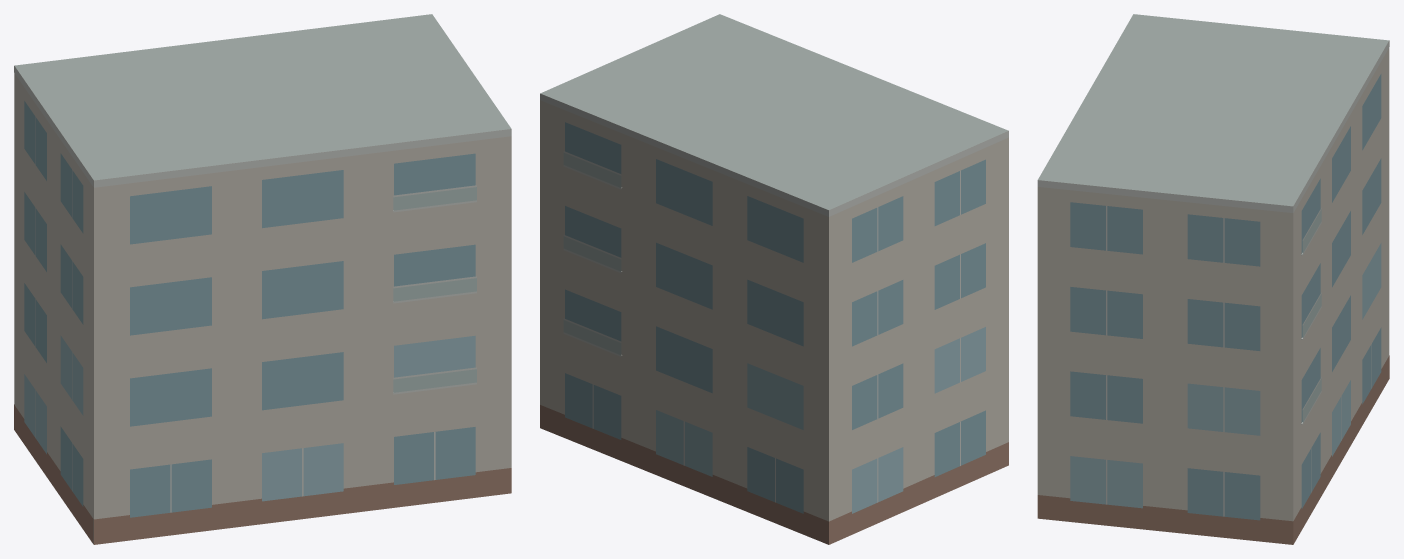
Rendered from residential-3d223ea8-10c8-47c0-bdbb-77e61973c215.glb.
3 renders of one model, left to right at view 1: azimuth 30°, elevation 25°; view 2: azimuth 150°, elevation 25°; view 3: azimuth 270°, elevation 25°, orthographic. The views are drawn at different scales.
Visible parts, largest first — view 1: residential-3d223ea8-10c8-47c0-bdbb-77e61973c215.tmp; view 2: residential-3d223ea8-10c8-47c0-bdbb-77e61973c215.tmp; view 3: residential-3d223ea8-10c8-47c0-bdbb-77e61973c215.tmp.
Part boxes in pixels (x1,y1,x2,y2): residential-3d223ea8-10c8-47c0-bdbb-77e61973c215.tmp: (14, 14, 511, 544); residential-3d223ea8-10c8-47c0-bdbb-77e61973c215.tmp: (540, 14, 1008, 544); residential-3d223ea8-10c8-47c0-bdbb-77e61973c215.tmp: (1037, 14, 1389, 544).
Size of the model in its own units: 14.88 by 12.2 by 11.5.
